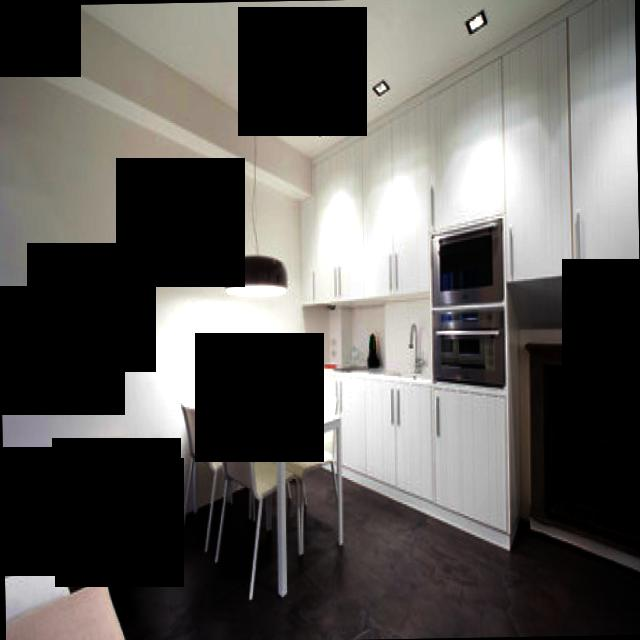white chair: (157, 407, 282, 610)
white sofa: (2, 422, 135, 640)
